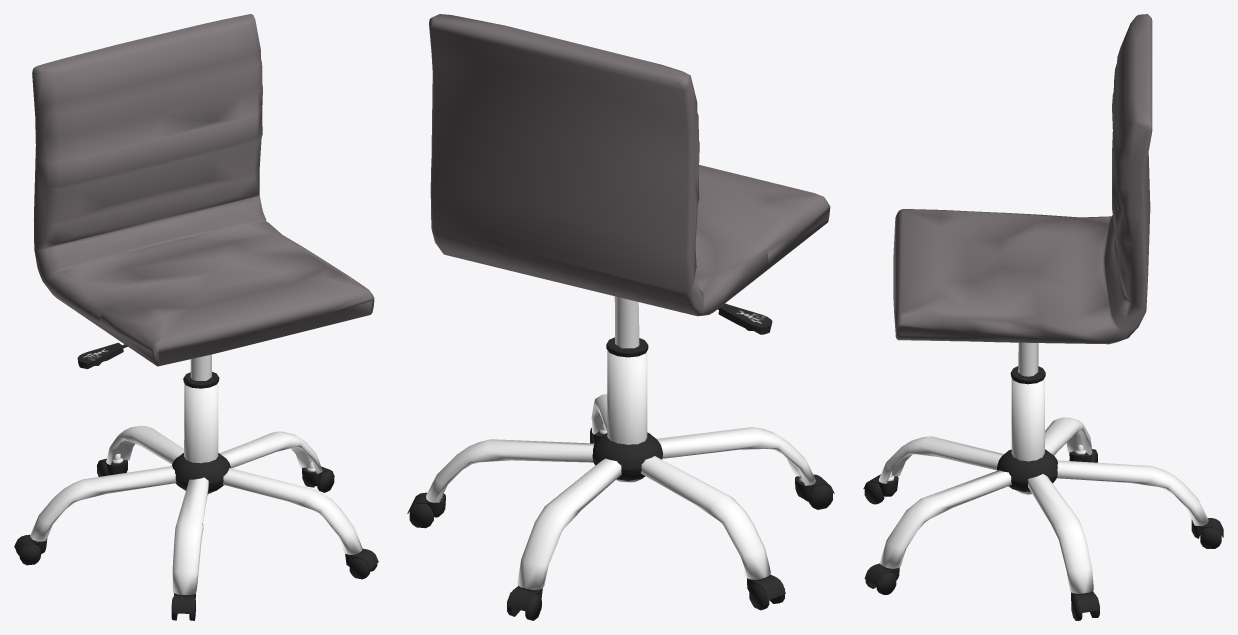
Rendered from B07MNYTYR4.glb.
The picture shows the model from 3 angles, left to right: view 1: azimuth 30°, elevation 25°; view 2: azimuth 150°, elevation 25°; view 3: azimuth 270°, elevation 25°; orthographic projection. The views are drawn at different scales.
Visible parts, largest first — view 1: B07MNYTYR4; view 2: B07MNYTYR4; view 3: B07MNYTYR4.
Boxes of the visible parts, x1,y1,x2,y2 form: B07MNYTYR4: (14,14,378,620); B07MNYTYR4: (407,14,834,620); B07MNYTYR4: (863,14,1223,620).
Size of the model in its own units: 0.5564 by 0.7798 by 0.5301.
Materials: 1 (1 with a texture image).
